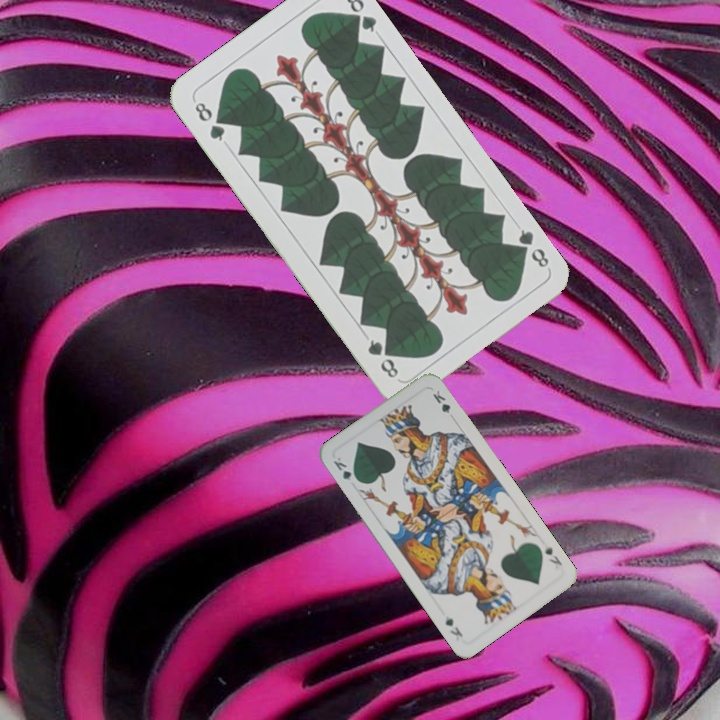G8: (511, 225, 552, 271), (190, 98, 228, 144)
GK: (329, 453, 362, 485), (540, 540, 565, 568)
